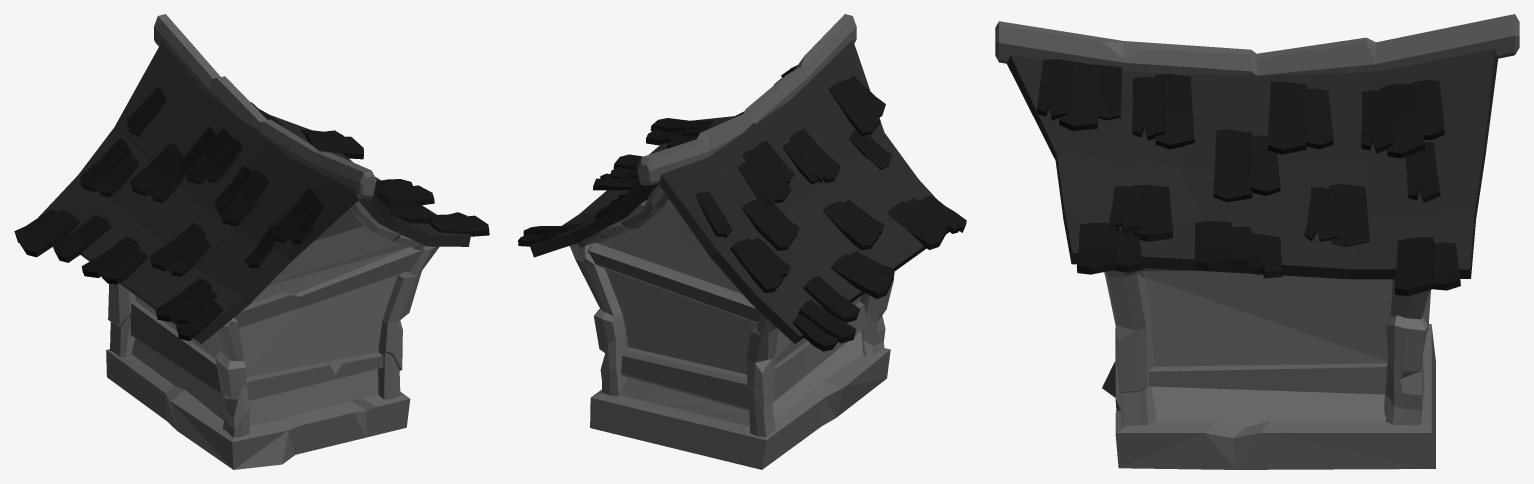
The model's file is WF_LP_HT_Build_HouseRoom.003.3.fbx.
The picture shows the model from 3 angles, left to right: view 1: azimuth 30°, elevation 25°; view 2: azimuth 150°, elevation 25°; view 3: azimuth 270°, elevation 25°; orthographic projection. The views are drawn at different scales.
Parts seen in each view (by area): view 1: WF_LP_HT_Build_HouseRoom.003.3; view 2: WF_LP_HT_Build_HouseRoom.003.3; view 3: WF_LP_HT_Build_HouseRoom.003.3.
Boxes of the visible parts, box(x1,y1,x2,y2) form: WF_LP_HT_Build_HouseRoom.003.3: box(14, 14, 489, 469); WF_LP_HT_Build_HouseRoom.003.3: box(518, 14, 966, 469); WF_LP_HT_Build_HouseRoom.003.3: box(995, 14, 1519, 469).
Bounding box in the file's own units: 5.37 × 4.9 × 5.83.
